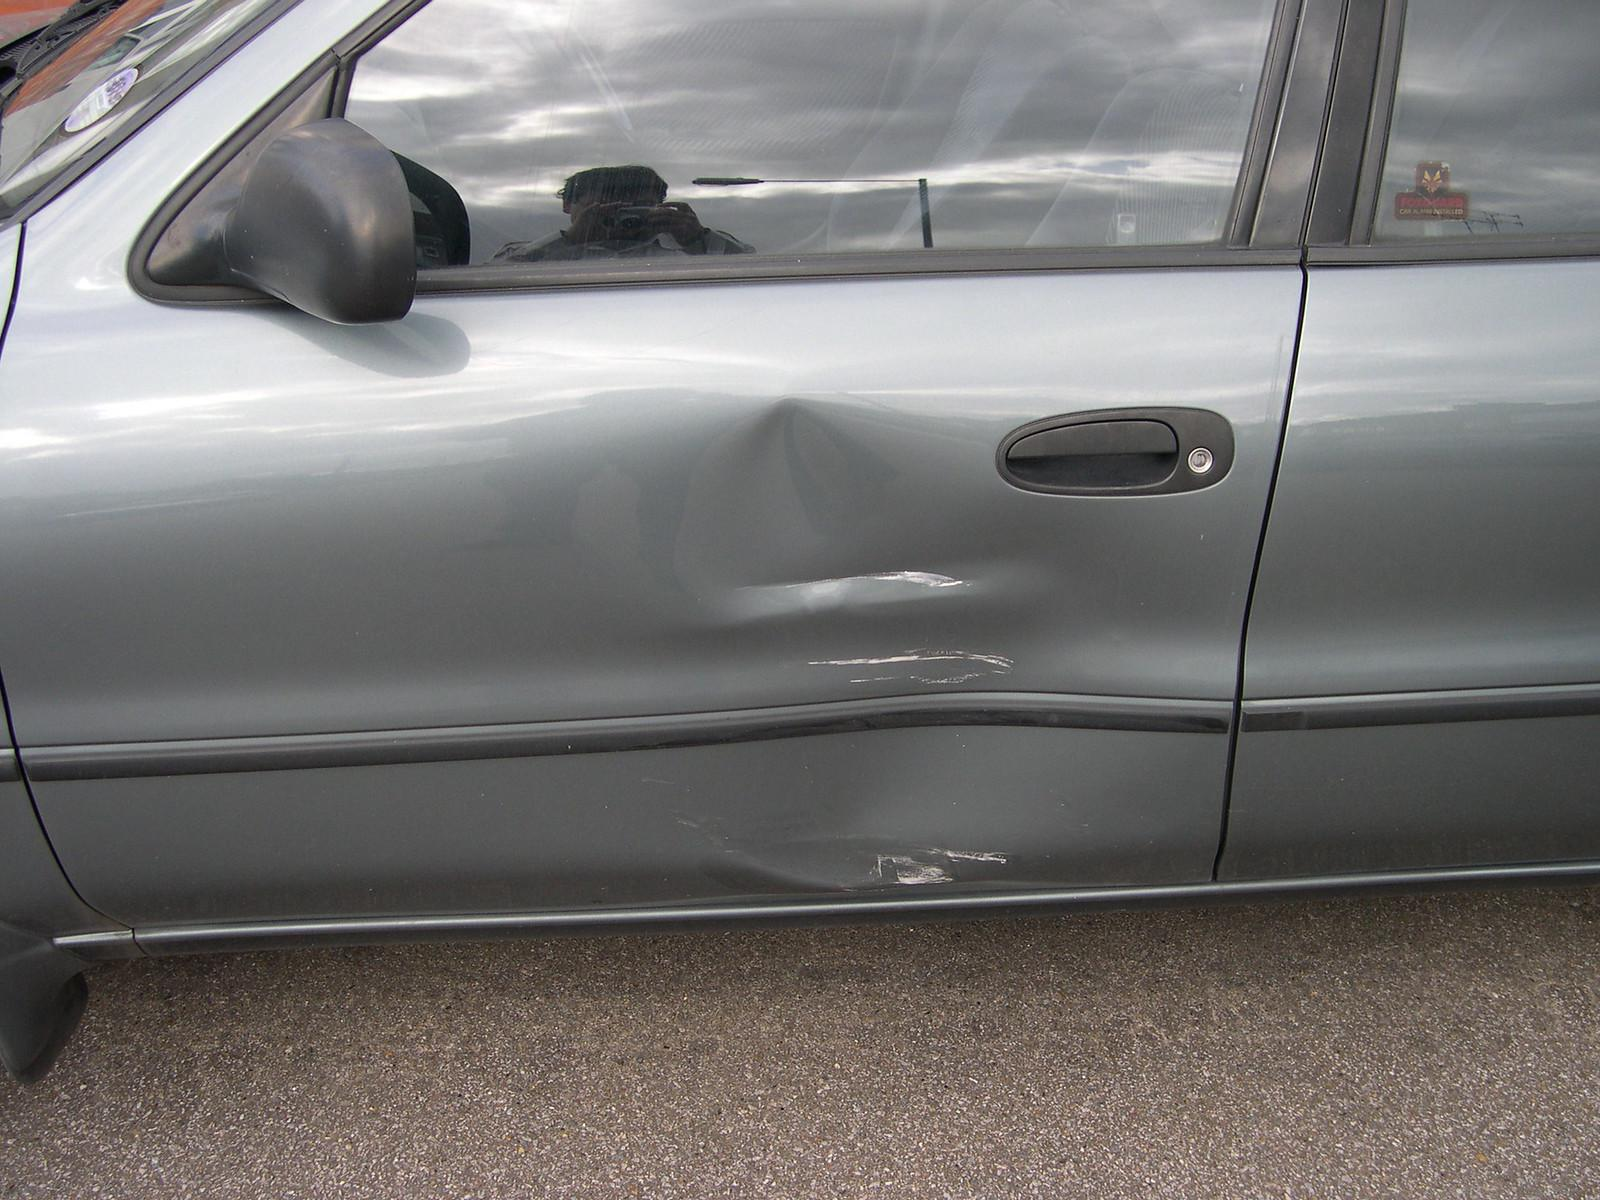doorouter-dent: (508, 343, 1223, 972)
